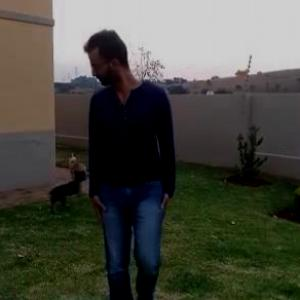follow: (82, 16, 171, 259)
